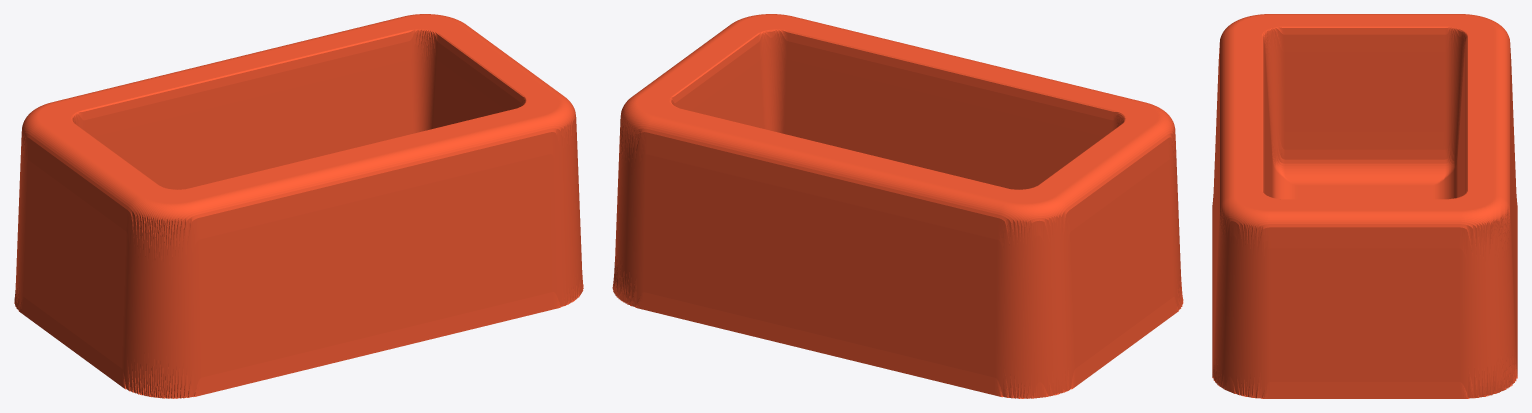
The model's file is mold.glb.
The picture shows the model from 3 angles, left to right: view 1: azimuth 30°, elevation 25°; view 2: azimuth 150°, elevation 25°; view 3: azimuth 270°, elevation 25°; orthographic projection. The views are drawn at different scales.
Parts seen in each view (by area): view 1: geometry_0; view 2: geometry_0; view 3: geometry_0.
Boxes of the visible parts, left/top/right/bottom form: geometry_0: left=14, top=14, right=583, bottom=398; geometry_0: left=612, top=14, right=1183, bottom=398; geometry_0: left=1212, top=14, right=1517, bottom=398.
Bounding box in the file's own units: 0.0798 × 0.031 × 0.048.
